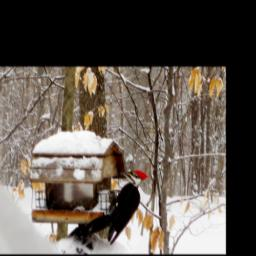Woodpecker: (75, 170, 150, 246)
